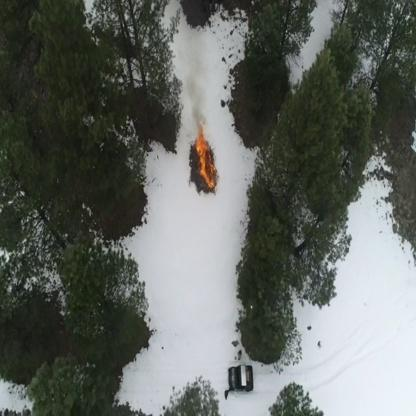Fire: (193, 119, 218, 191)
